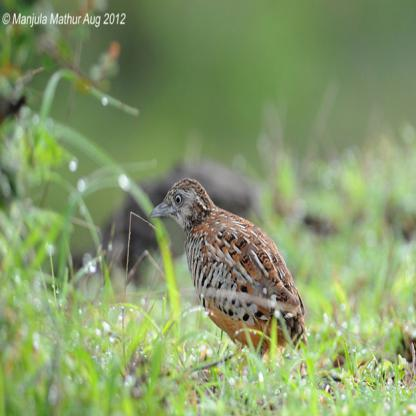Burung: (148, 177, 307, 353)
